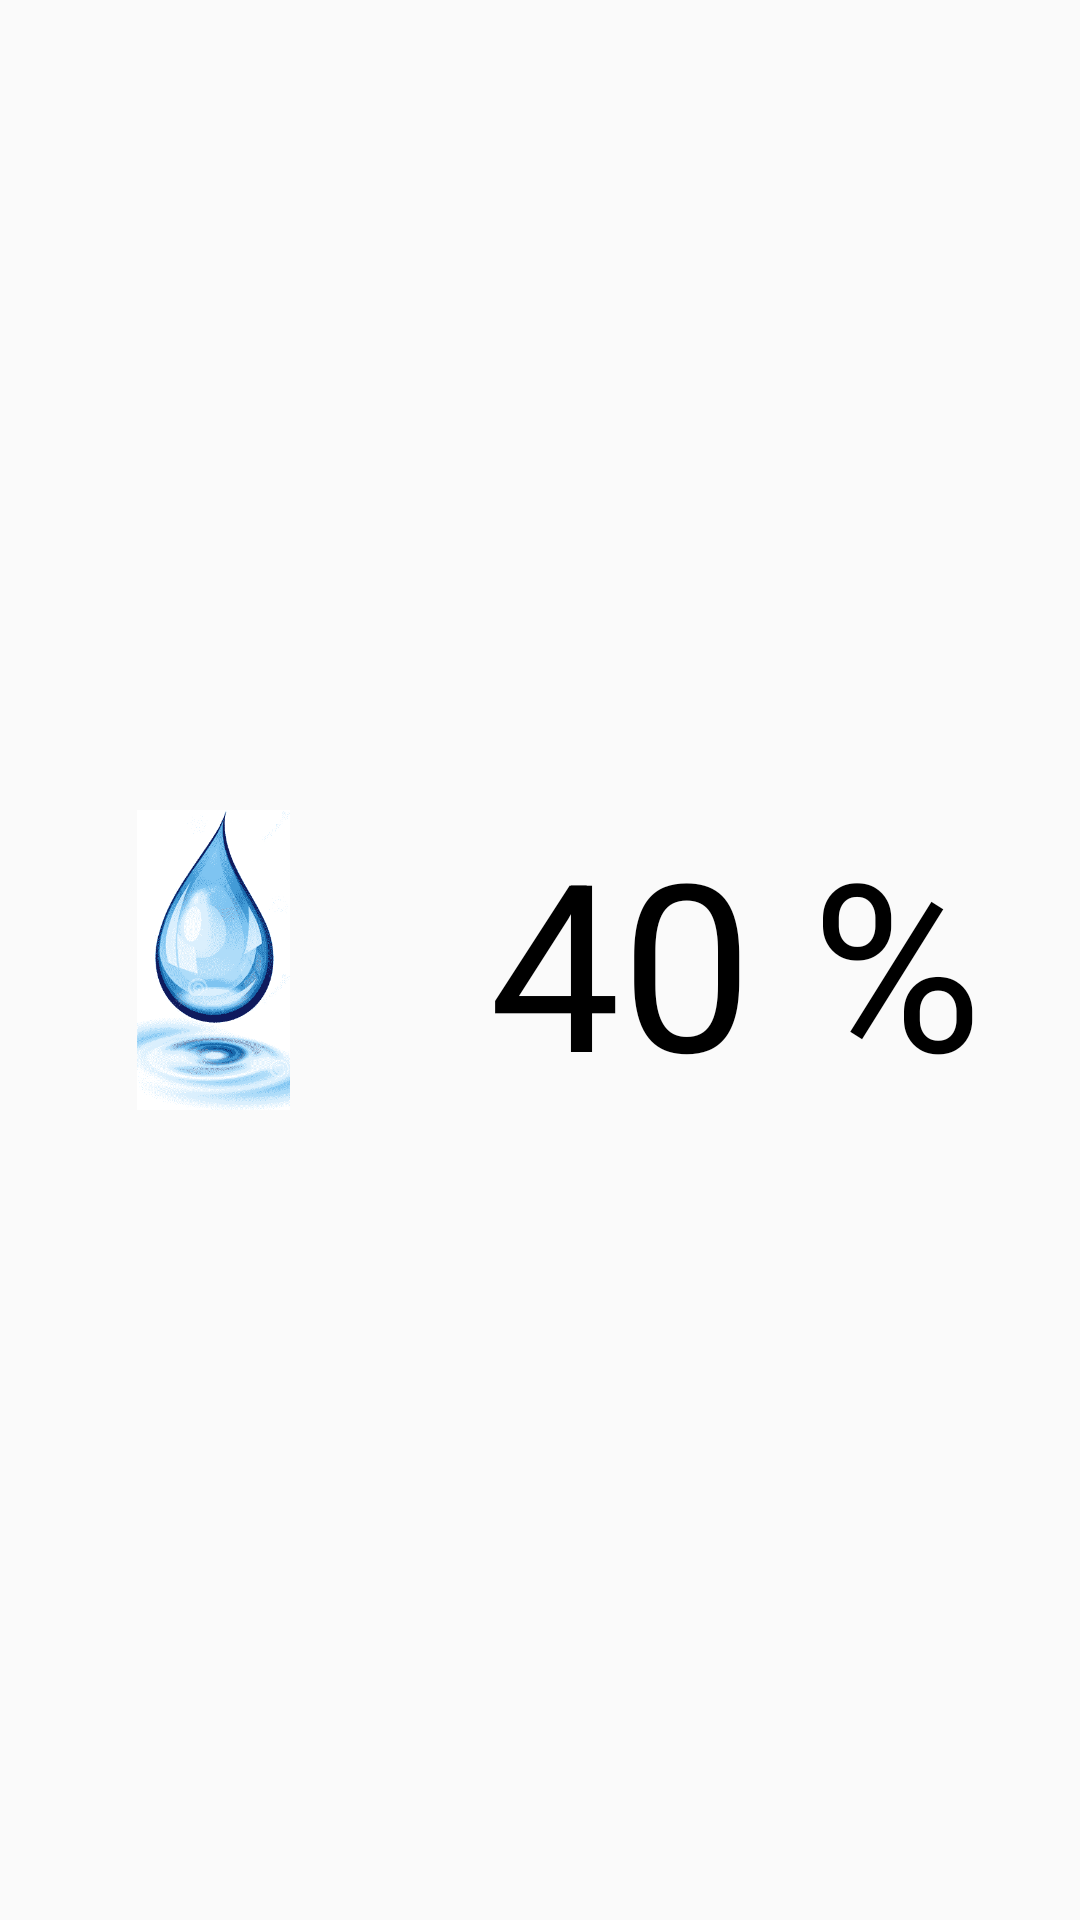

Where to tap for icons on this 1080 × 1920 app screen, as point (x, y):
humidity: point (213, 960)
